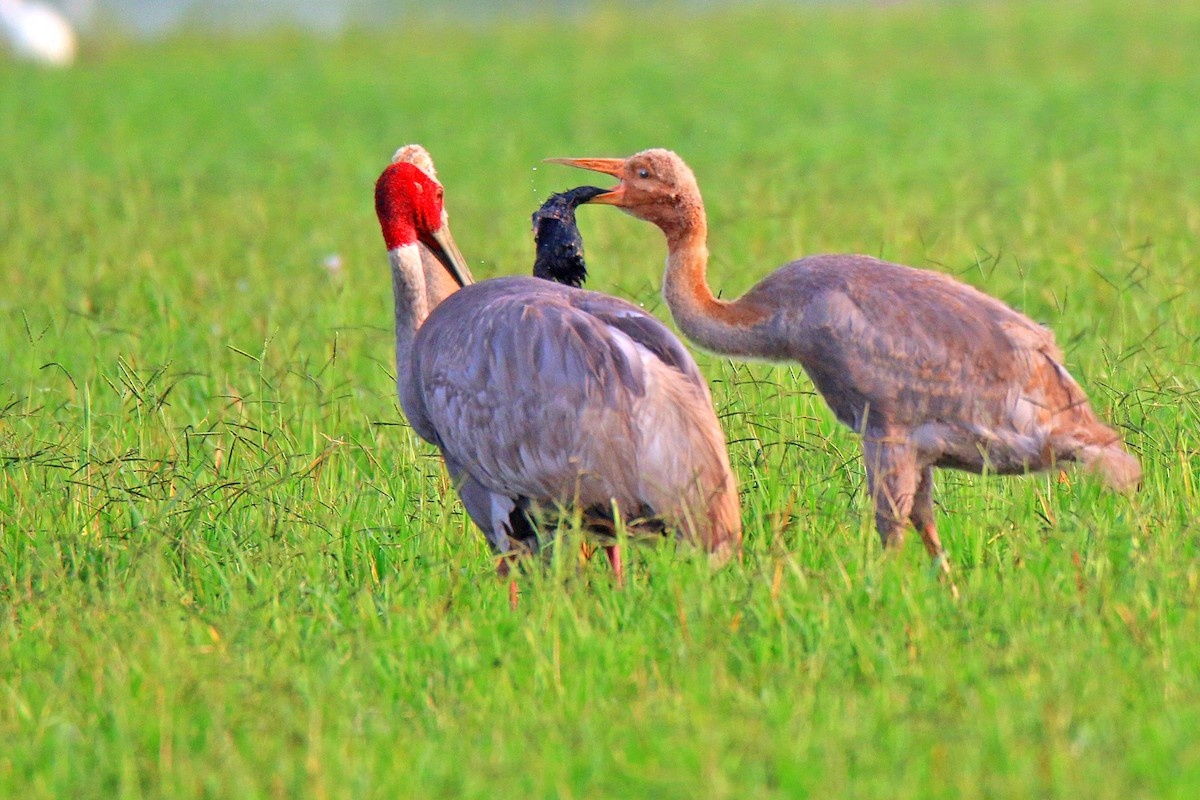crane: (555, 147, 1200, 557), (371, 160, 743, 584)
